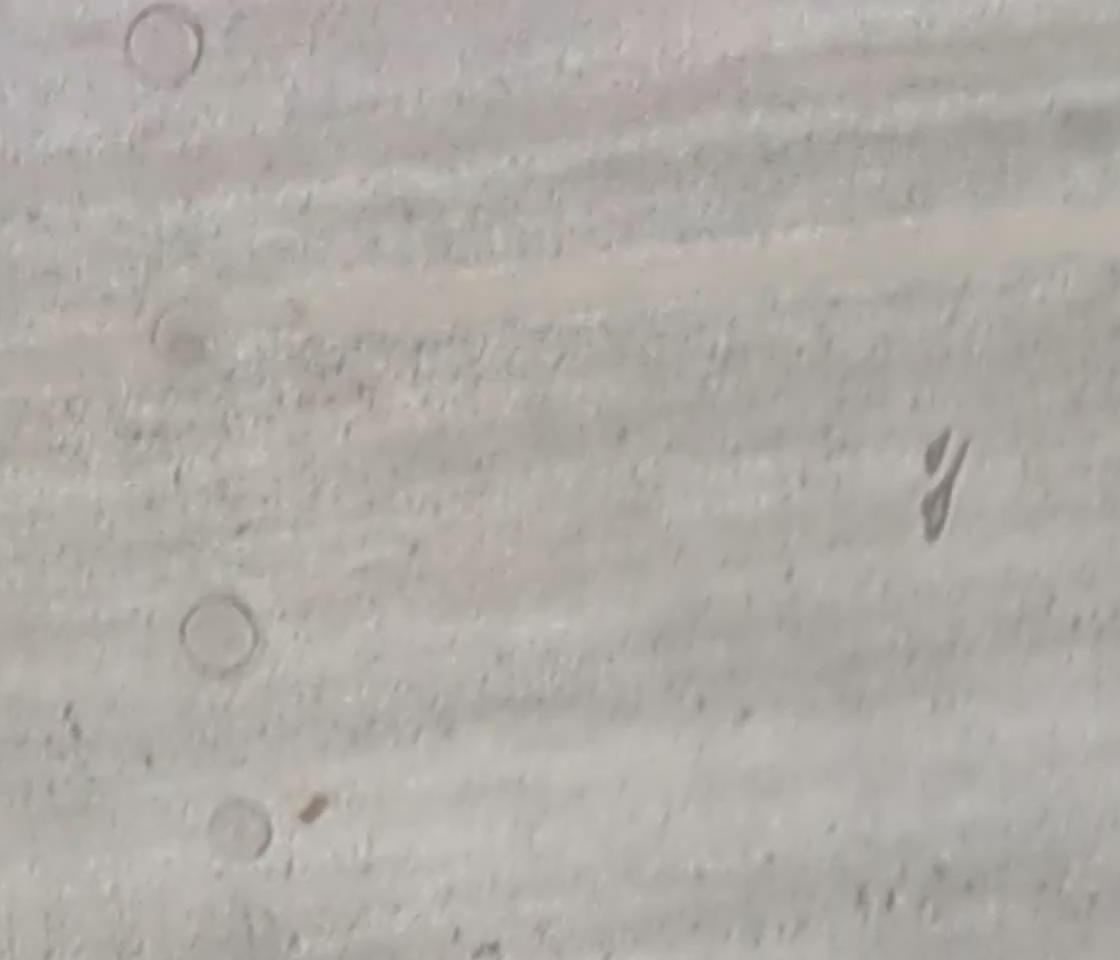scratch: (913, 421, 953, 476), (293, 791, 333, 829)
